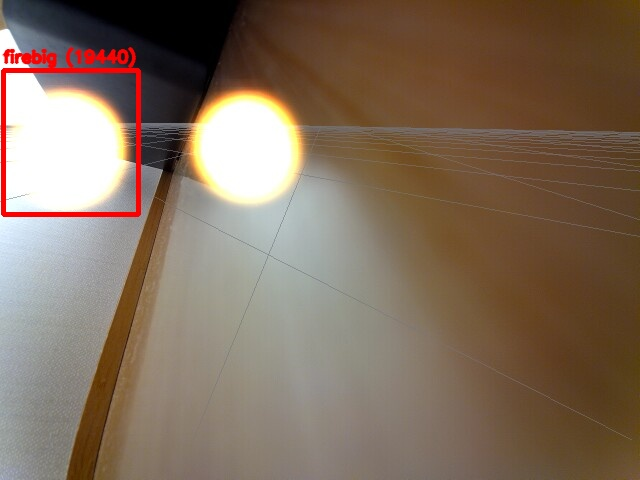firebig: (3, 70, 138, 214)
